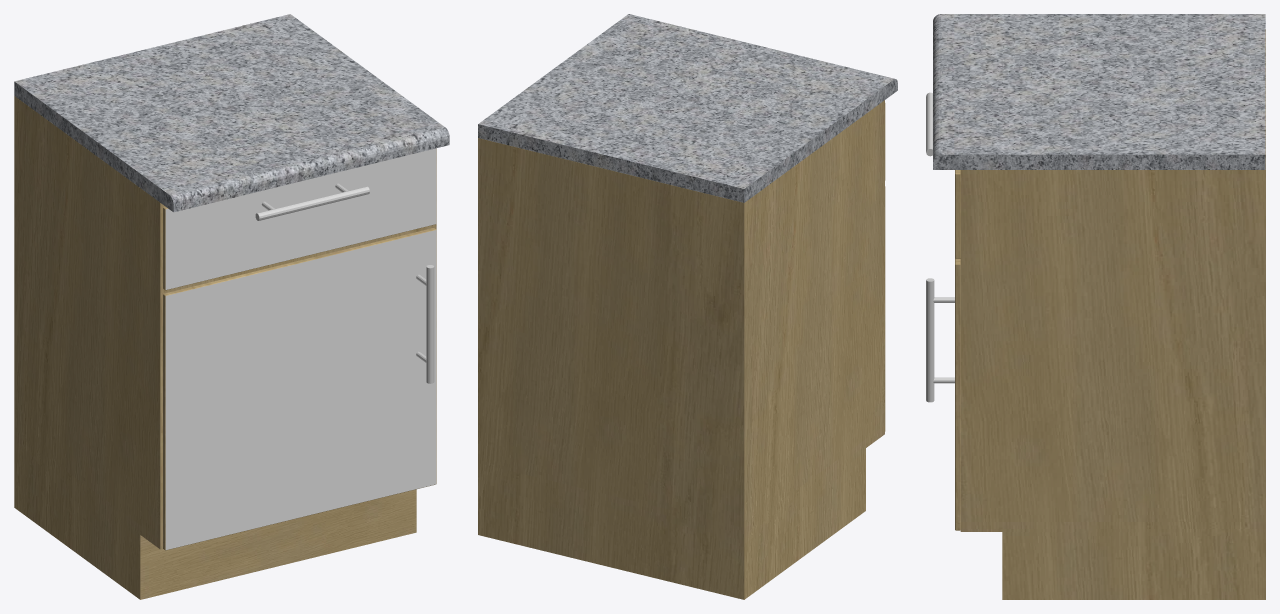
Rendered from b0-lowercabinet.glb.
The picture shows the model from 3 angles, left to right: view 1: azimuth 30°, elevation 25°; view 2: azimuth 150°, elevation 25°; view 3: azimuth 270°, elevation 25°; orthographic projection. The views are drawn at different scales.
Visible parts, largest first — view 1: GC_100L.004_Cube.016; view 2: GC_100L.004_Cube.016; view 3: GC_100L.004_Cube.016.
Part boxes in pixels (box(x1,y1,x2,y2)): GC_100L.004_Cube.016: box(14, 14, 449, 599); GC_100L.004_Cube.016: box(478, 14, 897, 599); GC_100L.004_Cube.016: box(926, 14, 1265, 599).
Size of the model in its own units: 0.6 by 0.885 by 0.612.
Materials: 4 (2 with a texture image).
